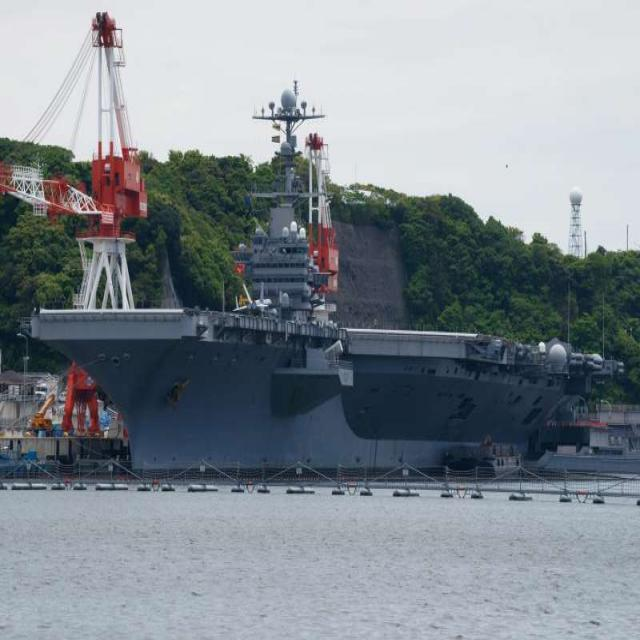Portanaves: (25, 84, 623, 484)
